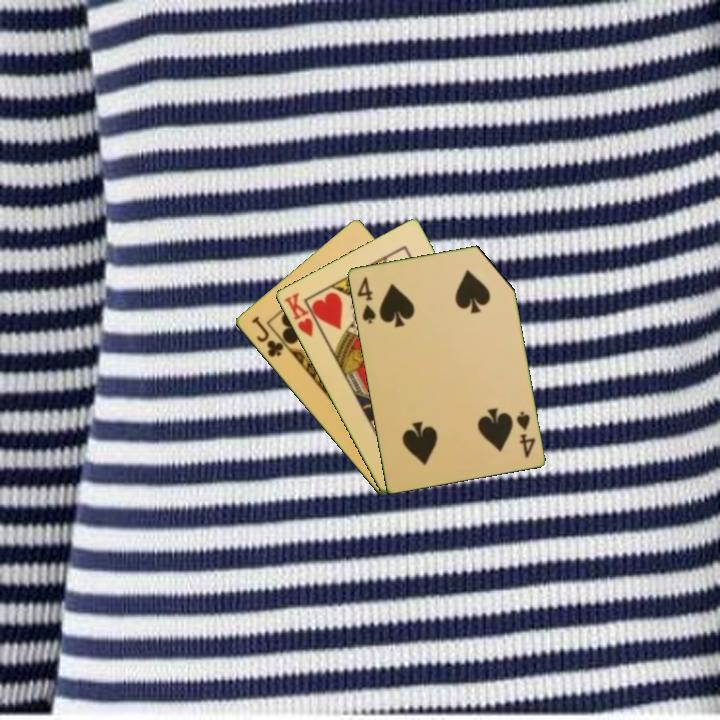4s: (512, 407, 538, 460), (353, 273, 378, 326)
Jc: (247, 312, 286, 360)
Kh: (280, 289, 325, 340)
